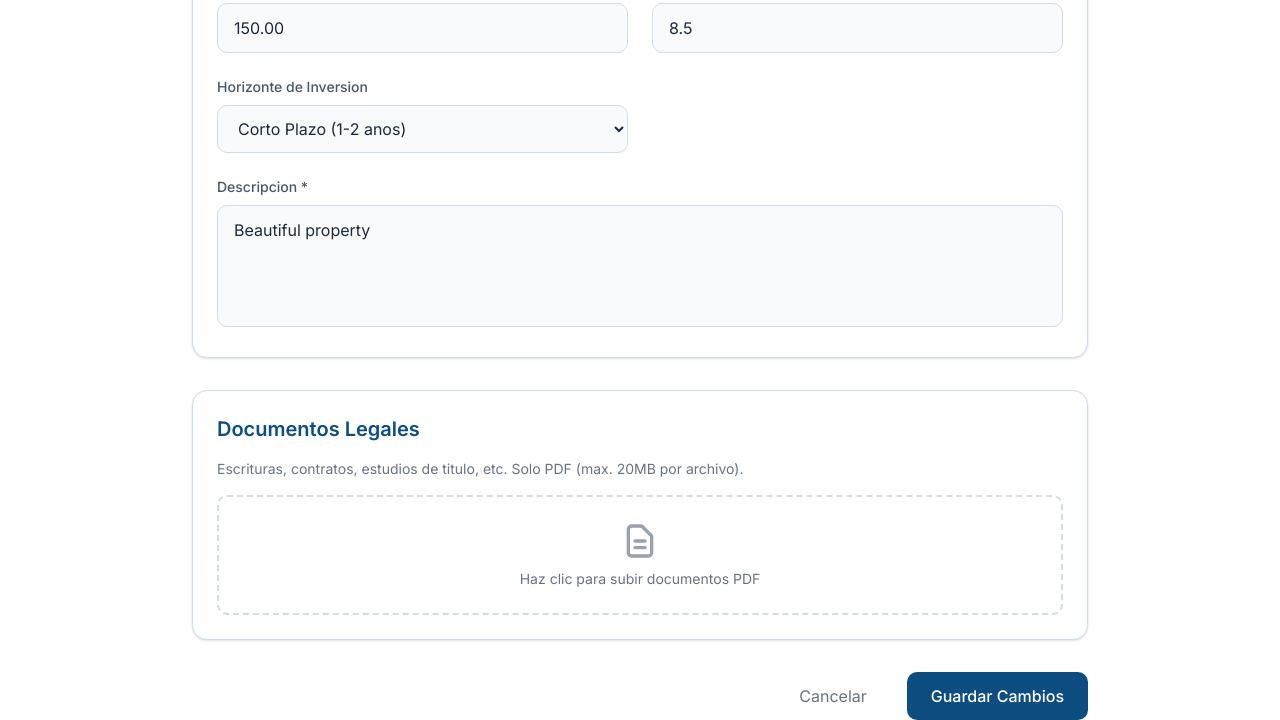
EditPropertyPage › Form Submission › should show error message on API failure
(page scrolled)
Click the button "Guardar Cambios" at (997, 696), box [907,672,1088,719]
(page scrolled)
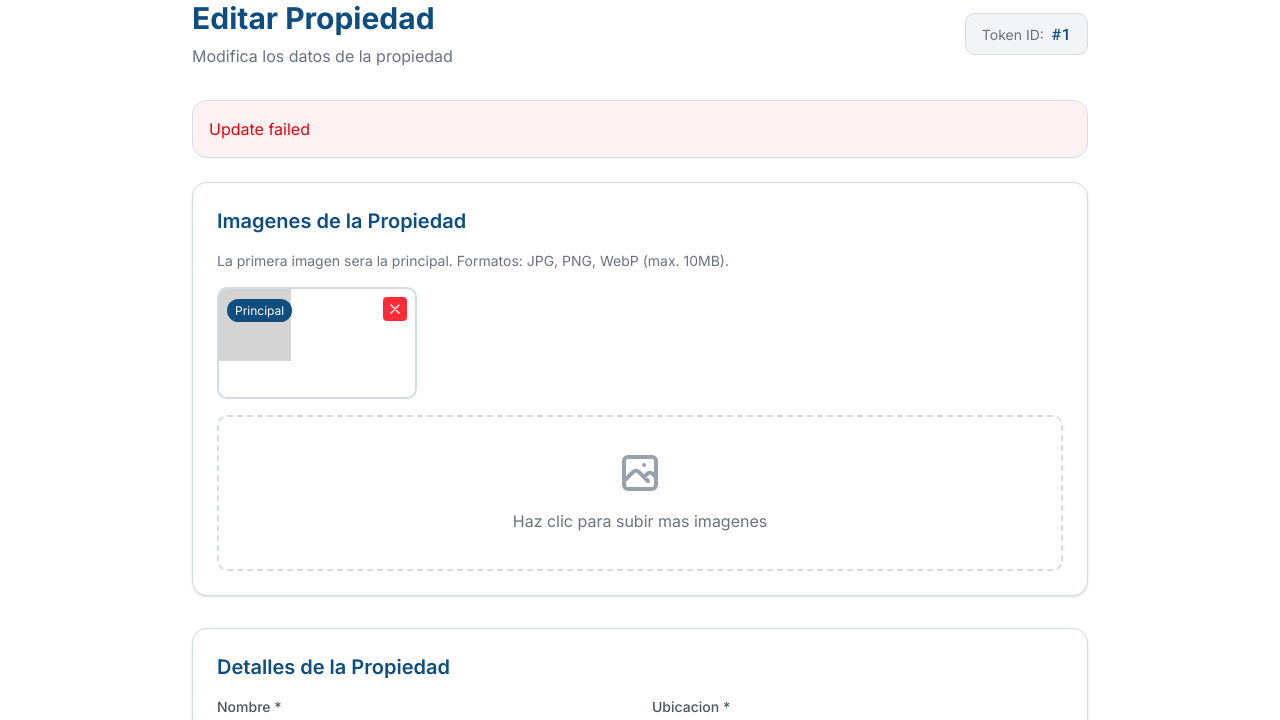
Expected: the text "Update failed" is shown, [209,119,310,139]
